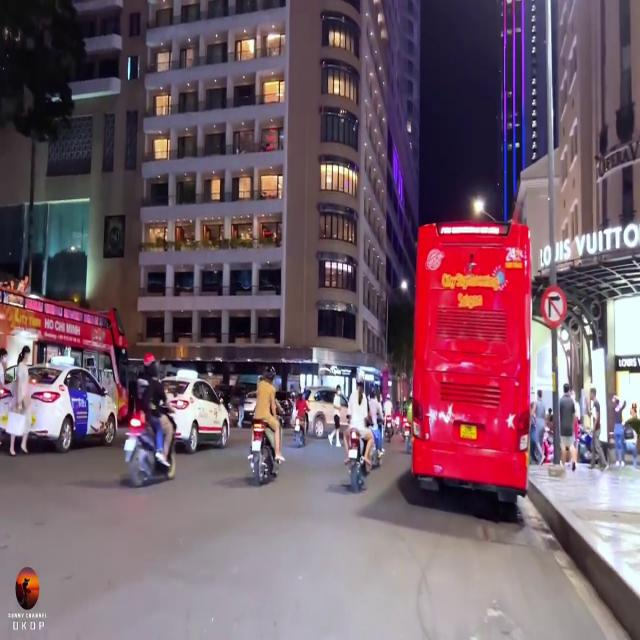bien_vang: (459, 422, 477, 443)
